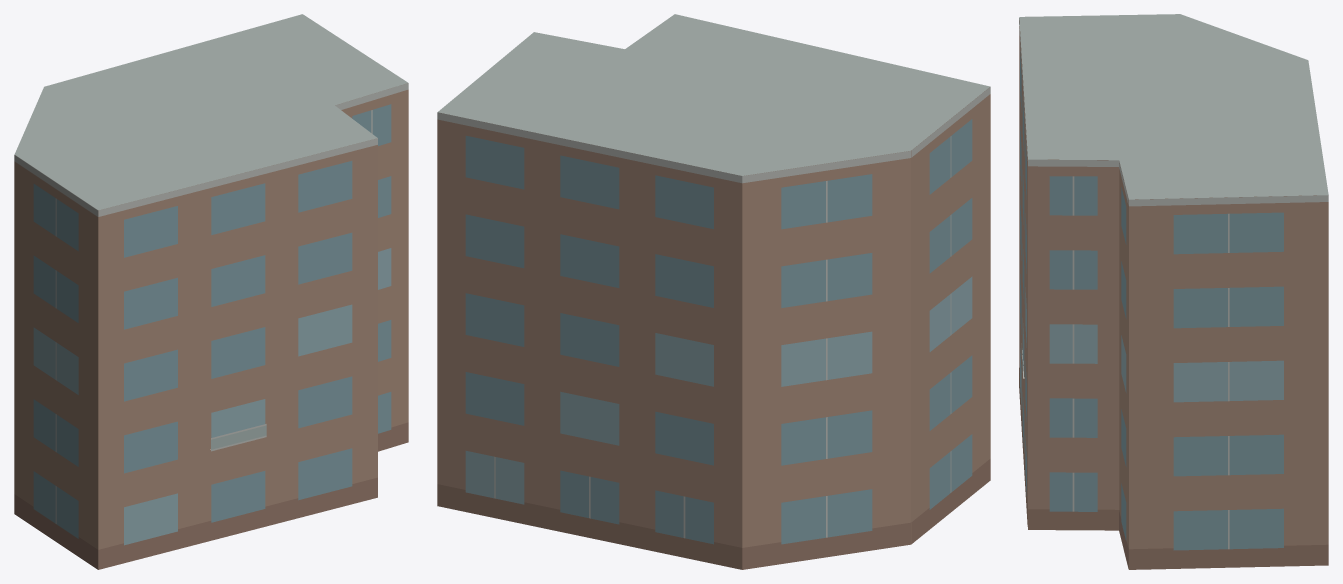
Rendered from survey-upis-32582009.glb.
3 renders of one model, left to right at view 1: azimuth 30°, elevation 25°; view 2: azimuth 150°, elevation 25°; view 3: azimuth 270°, elevation 25°, orthographic. The views are drawn at different scales.
Visible parts, largest first — view 1: survey-upis-32582009.tmp; view 2: survey-upis-32582009.tmp; view 3: survey-upis-32582009.tmp.
Part boxes in pixels (<box>): survey-upis-32582009.tmp: <box>14,14,408,569</box>; survey-upis-32582009.tmp: <box>437,14,990,569</box>; survey-upis-32582009.tmp: <box>1019,14,1328,569</box>.
Size of the model in its own units: 14.2 by 13.2 by 10.01.
